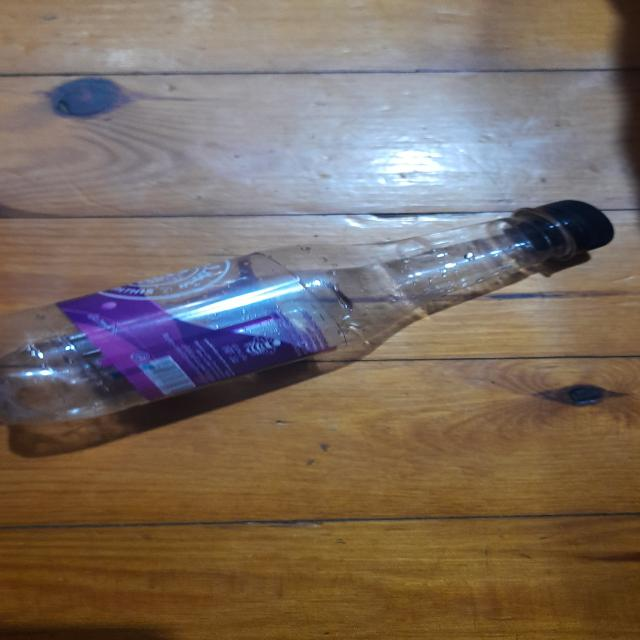plastic: (0, 201, 614, 461)
